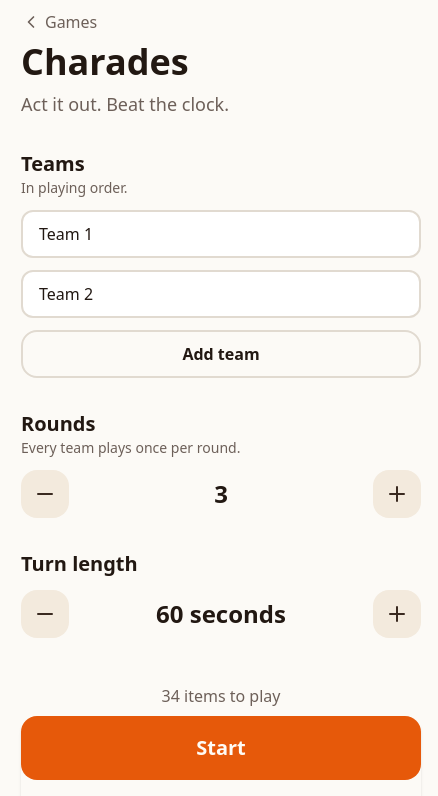
Test: setup screen › changes rounds and turn length with − and +, within their limits
This screenshot has width=438, height=796.
Click the button named "Less: Turn length" at (45, 614), box [21,590,69,638]
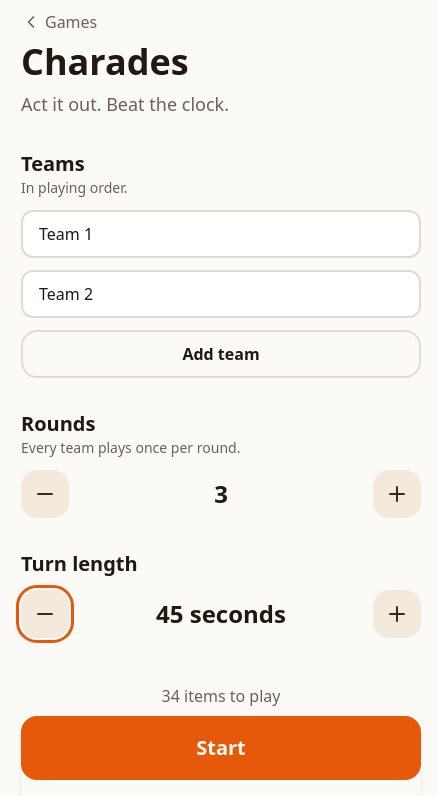
expect the text "45 seconds" is shown: met, box [156,598,286,630]
Click the button named "Less: Rounds" at (45, 494), box [21,470,69,518]
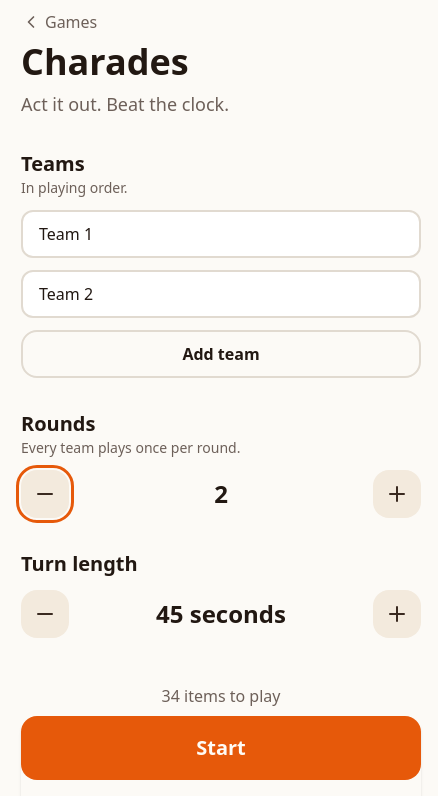
Click the button named "Less: Rounds" at (45, 494), box [21,470,69,518]
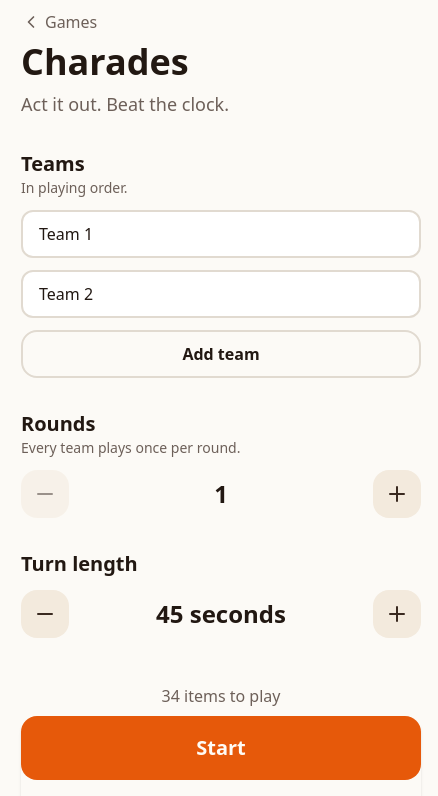
expect the text "1" is shown: met, box [214,478,228,510]
expect the button named "Less: Rounds" is disabled: met, box [21,470,69,518]
